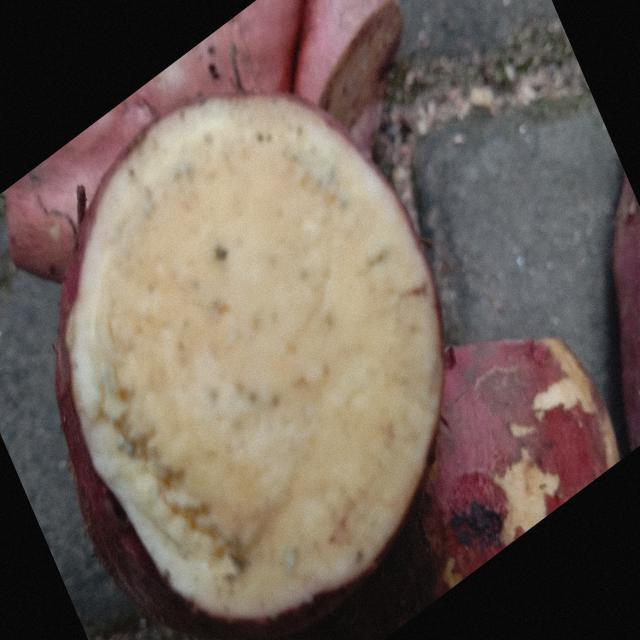Healthy Sweet Potato: (65, 97, 442, 618)
